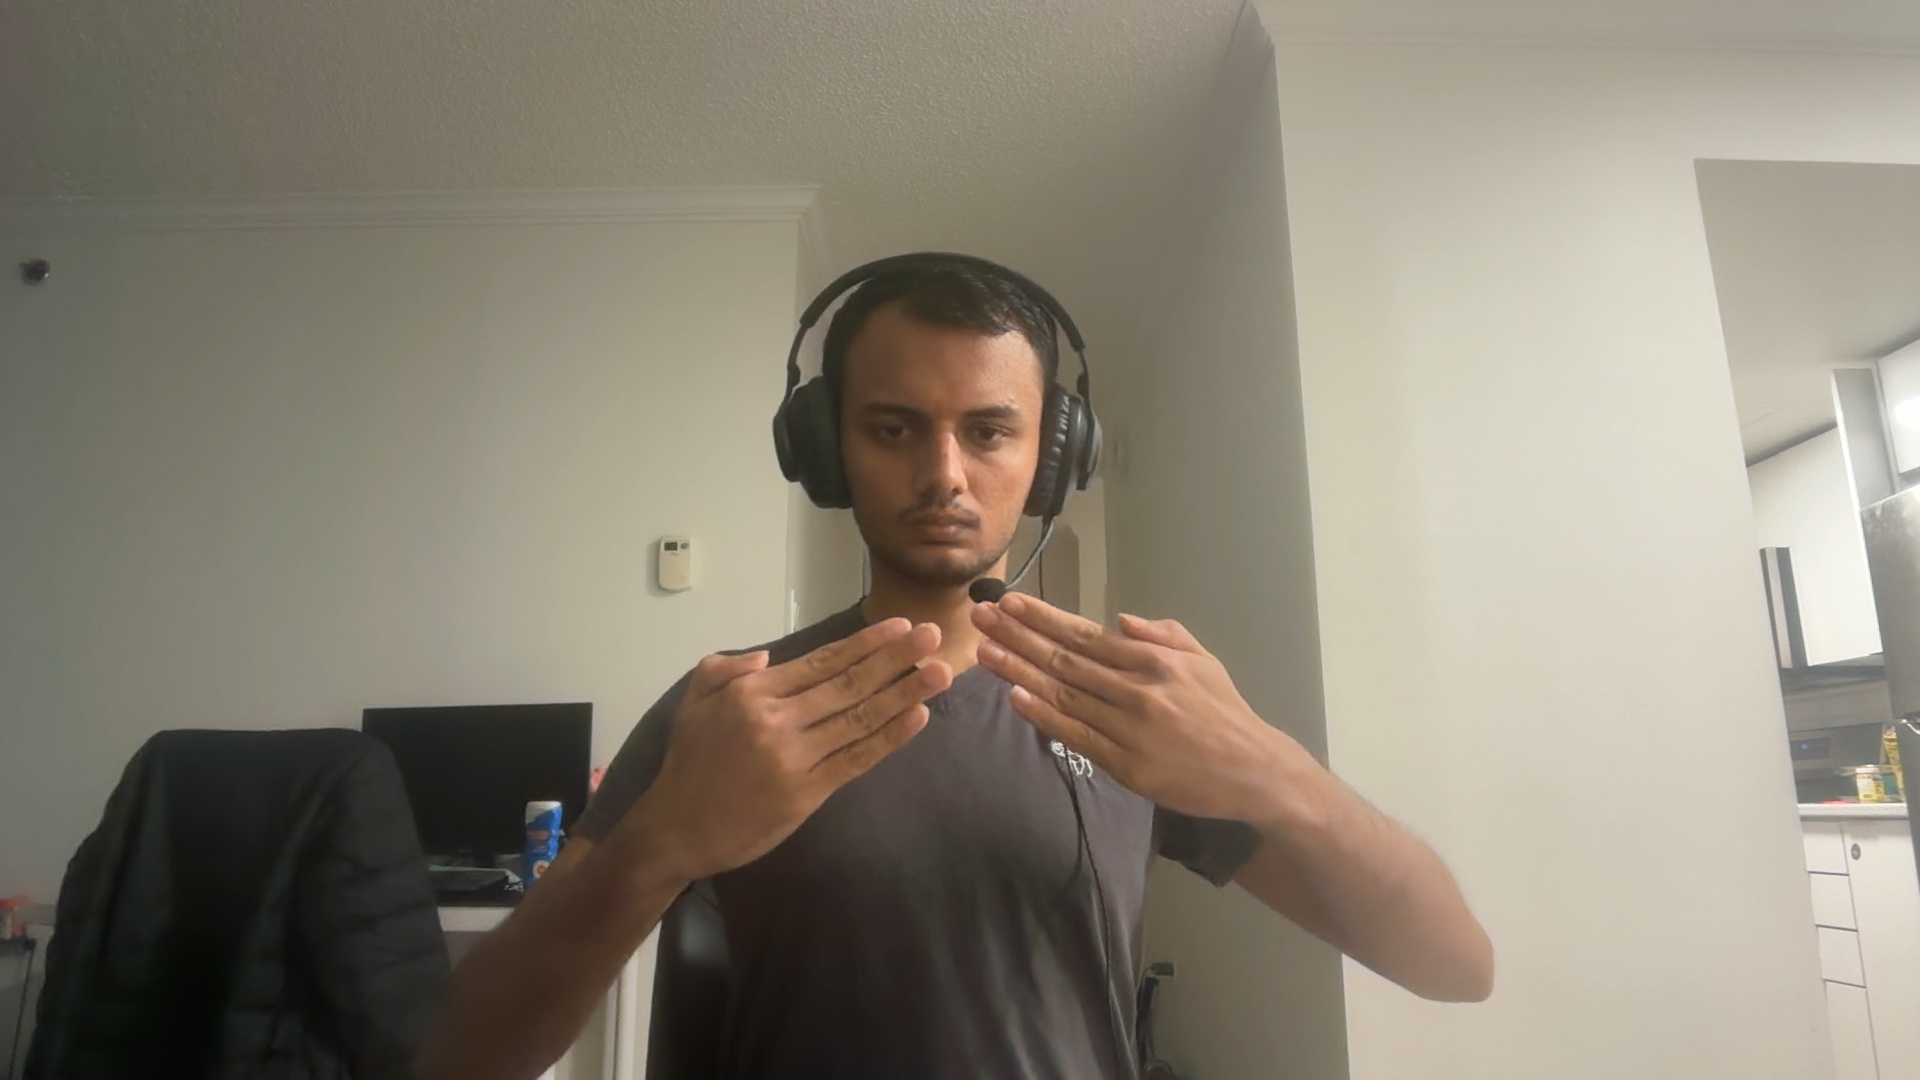thankyou: (665, 593, 1255, 884)
